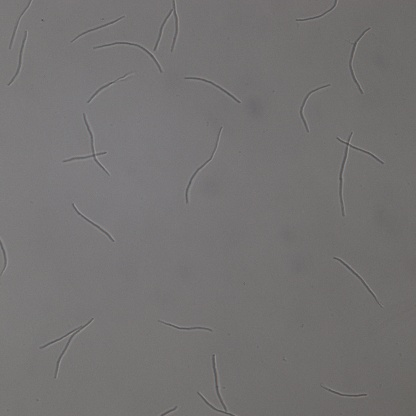Sensitive: (335, 132, 386, 217), (62, 111, 111, 175), (39, 319, 91, 377), (187, 127, 223, 199), (198, 354, 238, 416), (333, 256, 382, 306), (93, 39, 161, 72), (298, 81, 331, 134), (183, 75, 241, 104), (72, 203, 114, 243), (348, 25, 372, 94), (71, 14, 124, 40), (153, 1, 180, 52), (10, 31, 33, 84), (89, 73, 129, 101), (295, 1, 338, 24), (12, 1, 31, 45), (321, 382, 366, 400), (157, 321, 213, 334)
